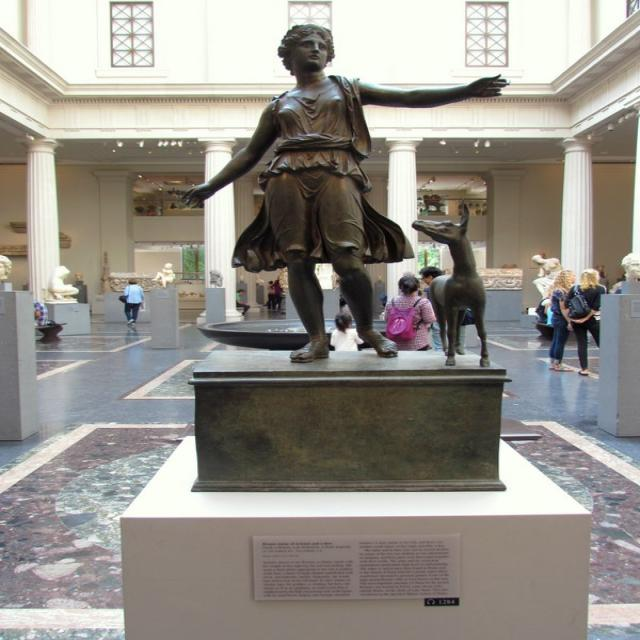body: (176, 22, 516, 364), (562, 268, 611, 378), (417, 265, 477, 353), (383, 274, 437, 352), (546, 267, 581, 373), (115, 276, 147, 330), (529, 253, 563, 301), (328, 310, 366, 352), (48, 264, 90, 299), (153, 262, 176, 290), (534, 290, 552, 324), (620, 252, 639, 283), (591, 270, 610, 299), (234, 288, 252, 318), (269, 278, 284, 312), (33, 301, 49, 326), (0, 254, 14, 282), (264, 280, 274, 310), (591, 257, 608, 272), (379, 290, 388, 308), (547, 304, 554, 326), (164, 201, 175, 211)
